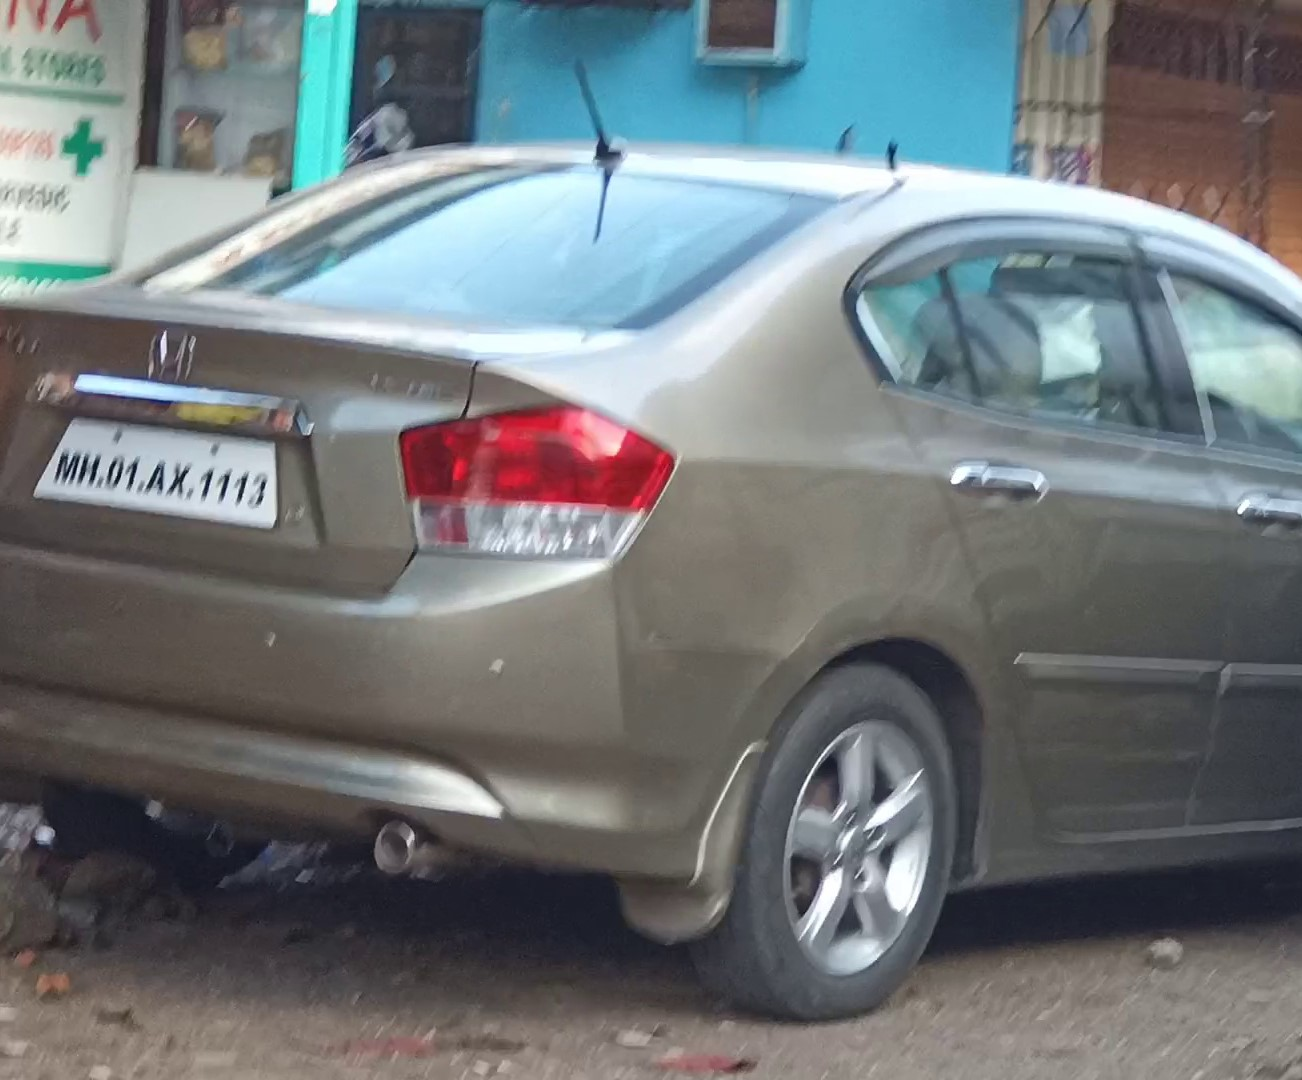MH01AX1113: (31, 412, 278, 528)
